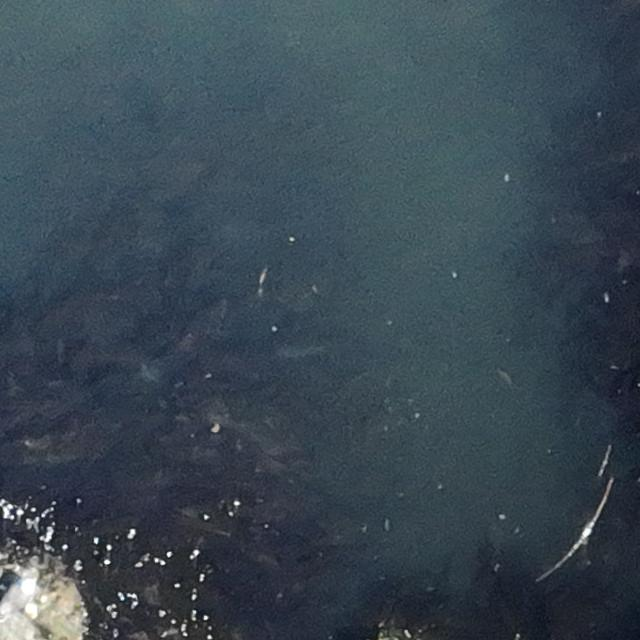umineko: (4, 576, 37, 616)
